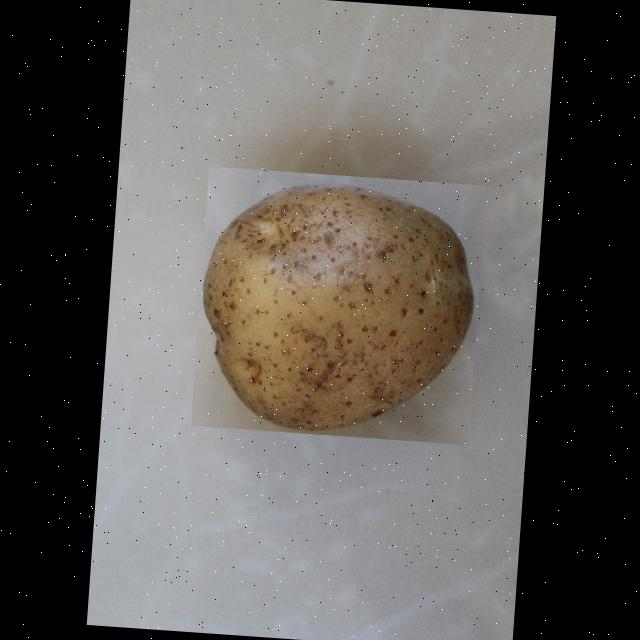Diseased-fungal potato: (190, 166, 484, 444)
